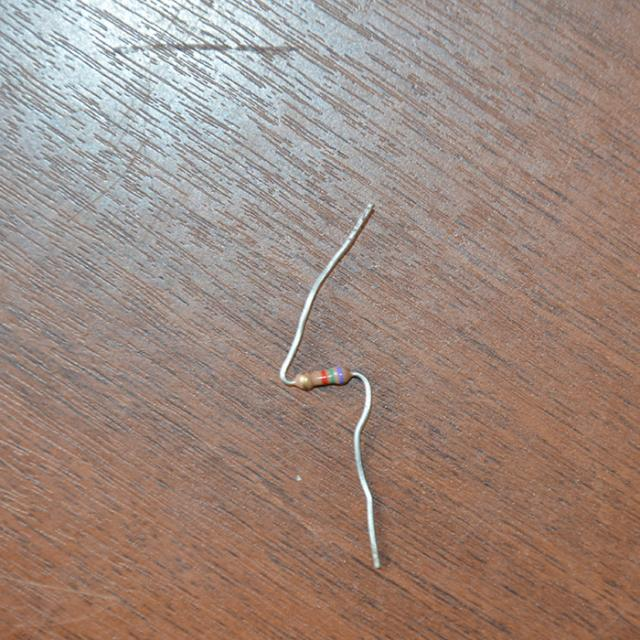gold: (301, 372, 308, 389)
green: (330, 369, 335, 383)
red: (321, 370, 327, 384)
resistor: (290, 364, 356, 398)
violet: (338, 366, 342, 383)
